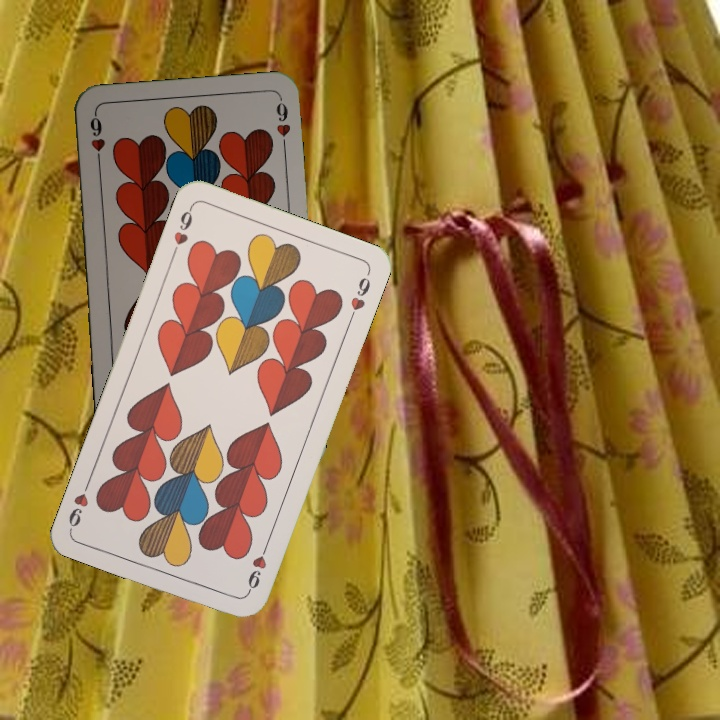H9: (167, 202, 195, 259), (243, 540, 271, 597), (85, 110, 108, 169)
